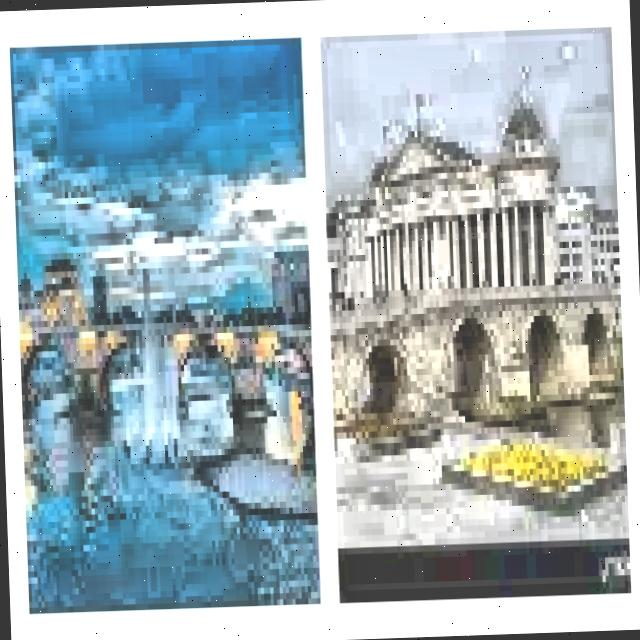stone bridge: (329, 260, 626, 442), (18, 291, 317, 426)
